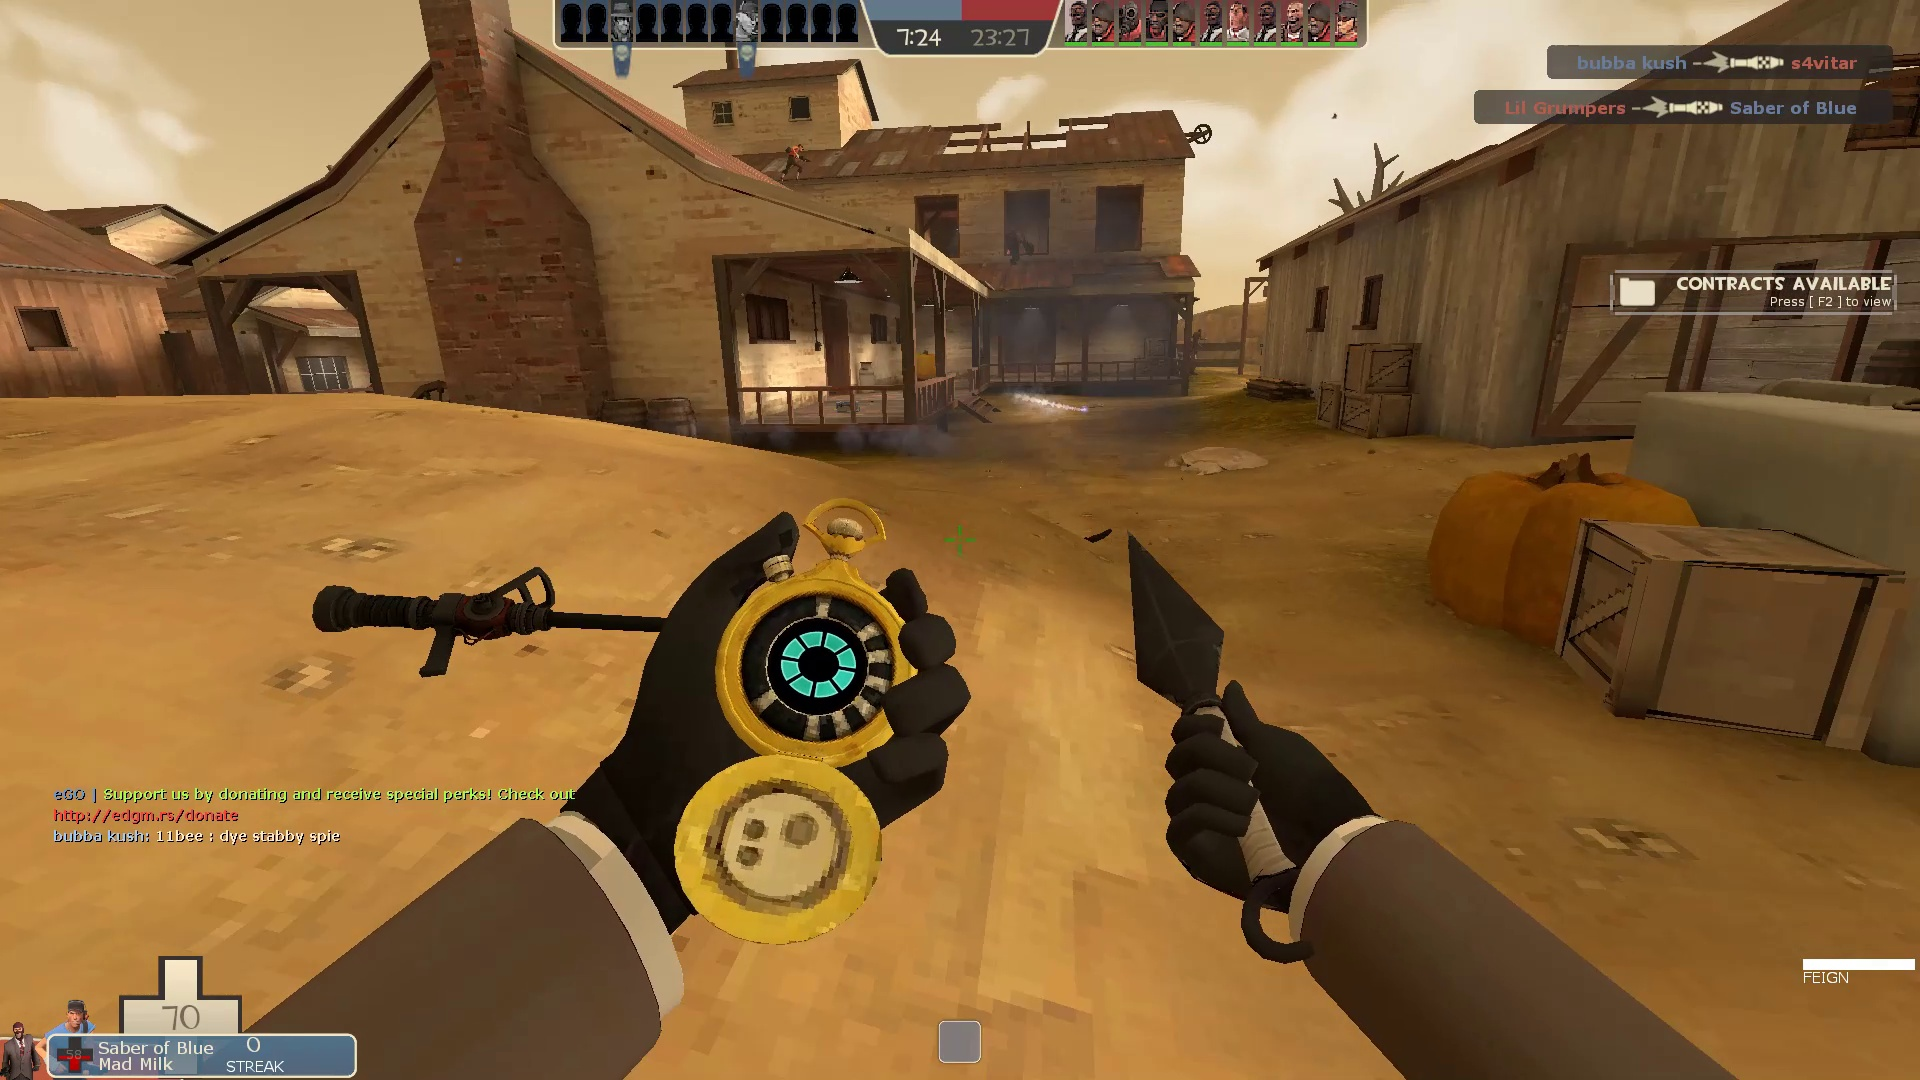red_scout: (779, 140, 814, 189)
